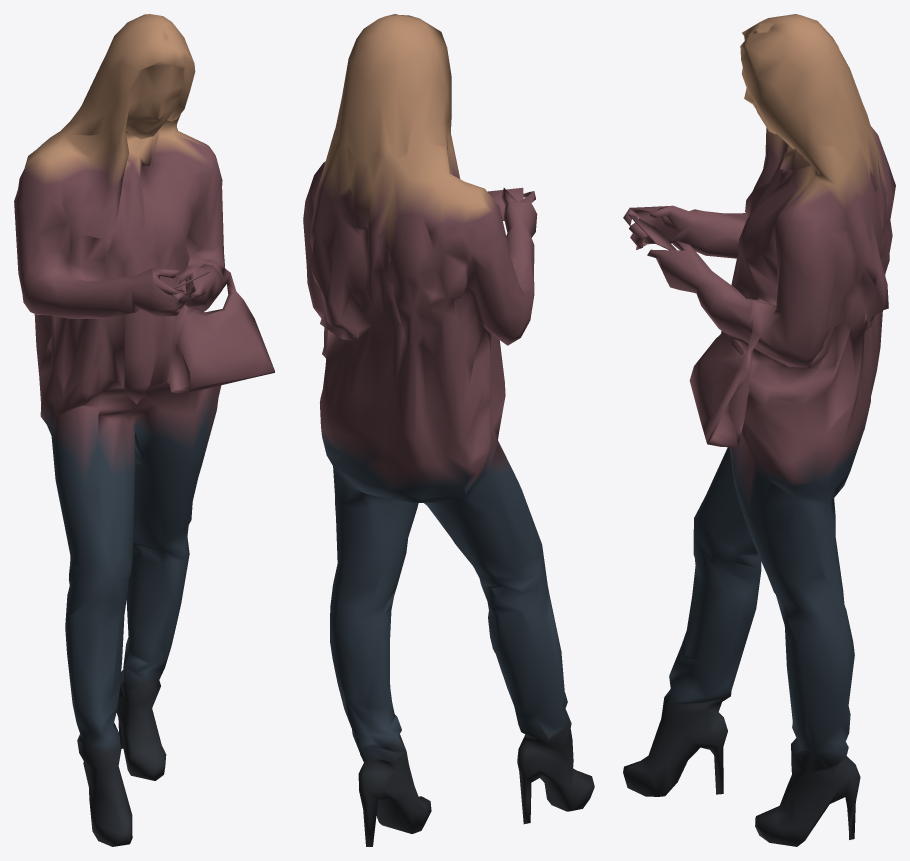
File: people_typ4_stand.glb
The picture shows the model from 3 angles, left to right: view 1: azimuth 30°, elevation 25°; view 2: azimuth 150°, elevation 25°; view 3: azimuth 270°, elevation 25°; orthographic projection. The views are drawn at different scales.
Parts seen in each view (by area): view 1: people_typ4_stand-mesh; view 2: people_typ4_stand-mesh; view 3: people_typ4_stand-mesh.
Part boxes in pixels (x1,y1,x2,y2): people_typ4_stand-mesh: (14, 14, 274, 846); people_typ4_stand-mesh: (303, 14, 594, 846); people_typ4_stand-mesh: (623, 14, 895, 846).
Size of the model in its own units: 0.5173 by 1.77 by 0.5299.
